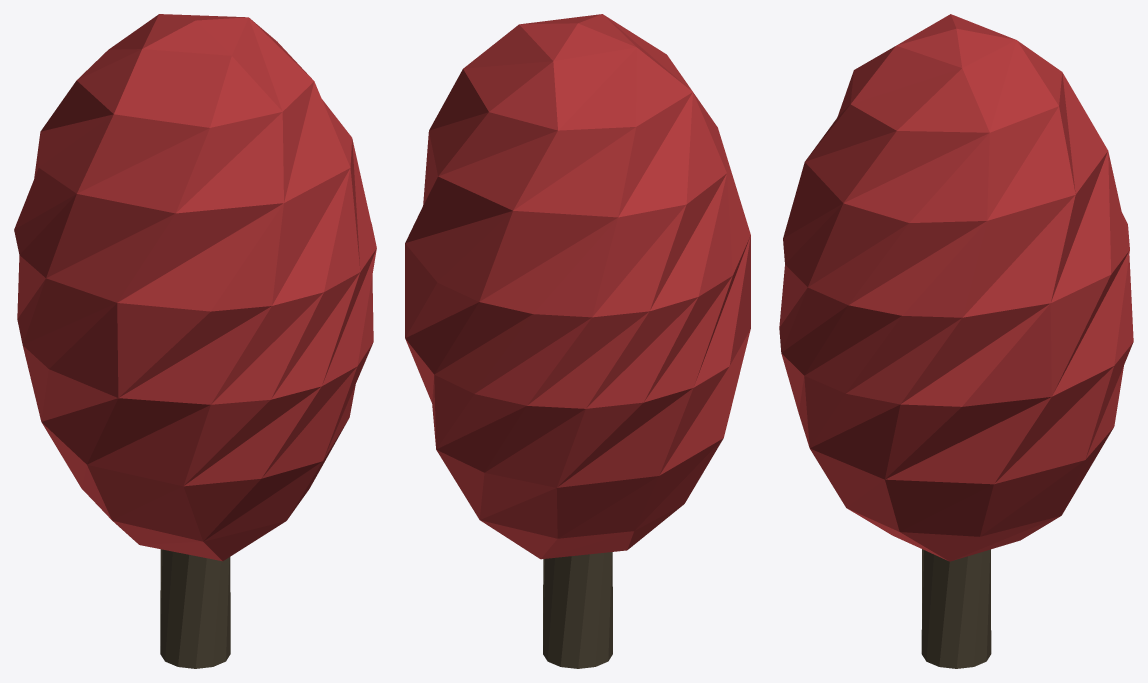
Rendered from autumn_red3.dae.
The picture shows the model from 3 angles, left to right: view 1: azimuth 30°, elevation 25°; view 2: azimuth 150°, elevation 25°; view 3: azimuth 270°, elevation 25°; orthographic projection.
Parts seen in each view (by area): view 1: Kugel, Zylinder; view 2: Kugel, Zylinder; view 3: Kugel, Zylinder.
Part boxes in pixels (x1,y1,x2,y2): Kugel: (14, 14, 376, 561); Zylinder: (160, 549, 230, 668); Kugel: (405, 14, 750, 559); Zylinder: (543, 552, 612, 668); Kugel: (779, 14, 1133, 561); Zylinder: (921, 549, 991, 668).
Bounding box in the file's own units: 15.14 × 30.05 × 15.43.
